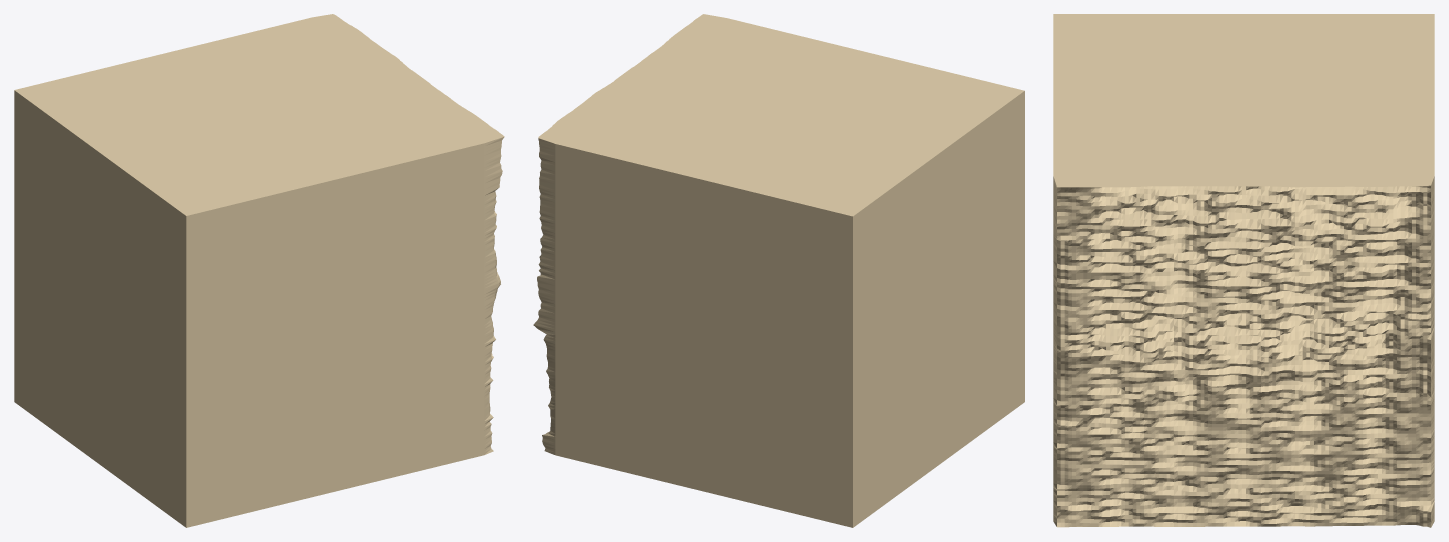
The model's file is lat3.png.obj.
3 views of the same model, side by side, from view 1: azimuth 30°, elevation 25°; view 2: azimuth 150°, elevation 25°; view 3: azimuth 270°, elevation 25° (orthographic). The views are drawn at different scales.
Parts seen in each view (by area): view 1: Cube; view 2: Cube; view 3: Cube.
Boxes of the visible parts, bbox=[...] form: Cube: bbox=[14, 14, 504, 527]; Cube: bbox=[533, 14, 1024, 527]; Cube: bbox=[1053, 14, 1434, 527].
Size of the model in its own units: 1.08 by 1 by 1.
